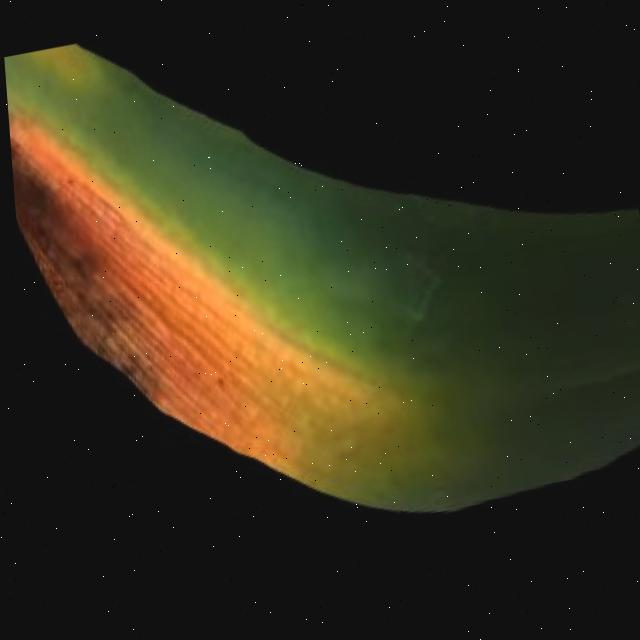mite: (45, 2, 636, 310), (369, 239, 461, 364)
spots: (3, 2, 640, 582)
